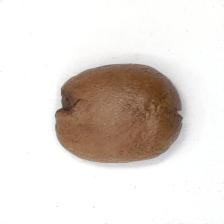NG: (54, 84, 83, 122)
